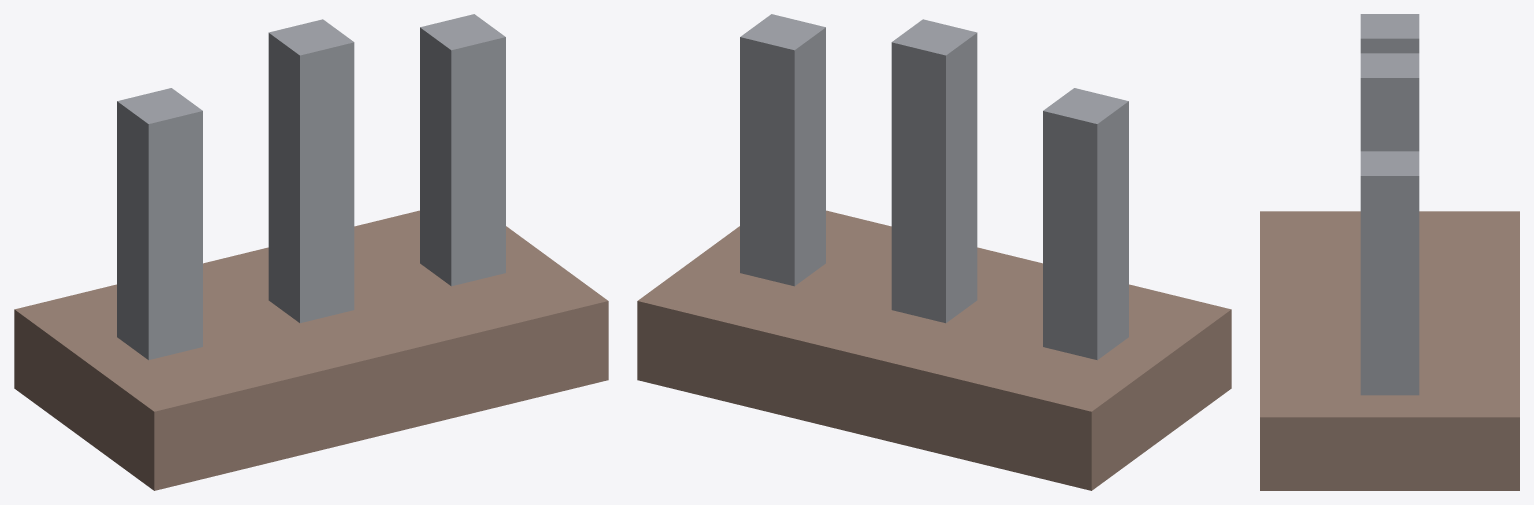
The model's file is prop_spike_trap.glb.
The picture shows the model from 3 angles, left to right: view 1: azimuth 30°, elevation 25°; view 2: azimuth 150°, elevation 25°; view 3: azimuth 270°, elevation 25°; orthographic projection. The views are drawn at different scales.
Visible parts, largest first — view 1: prop_spike_trap; view 2: prop_spike_trap; view 3: prop_spike_trap.
Part boxes in pixels (x1,y1,x2,y2): prop_spike_trap: [14, 14, 608, 490]; prop_spike_trap: [637, 14, 1231, 490]; prop_spike_trap: [1260, 14, 1519, 490].
Size of the model in its own units: 1.5 by 1.09 by 0.8.
